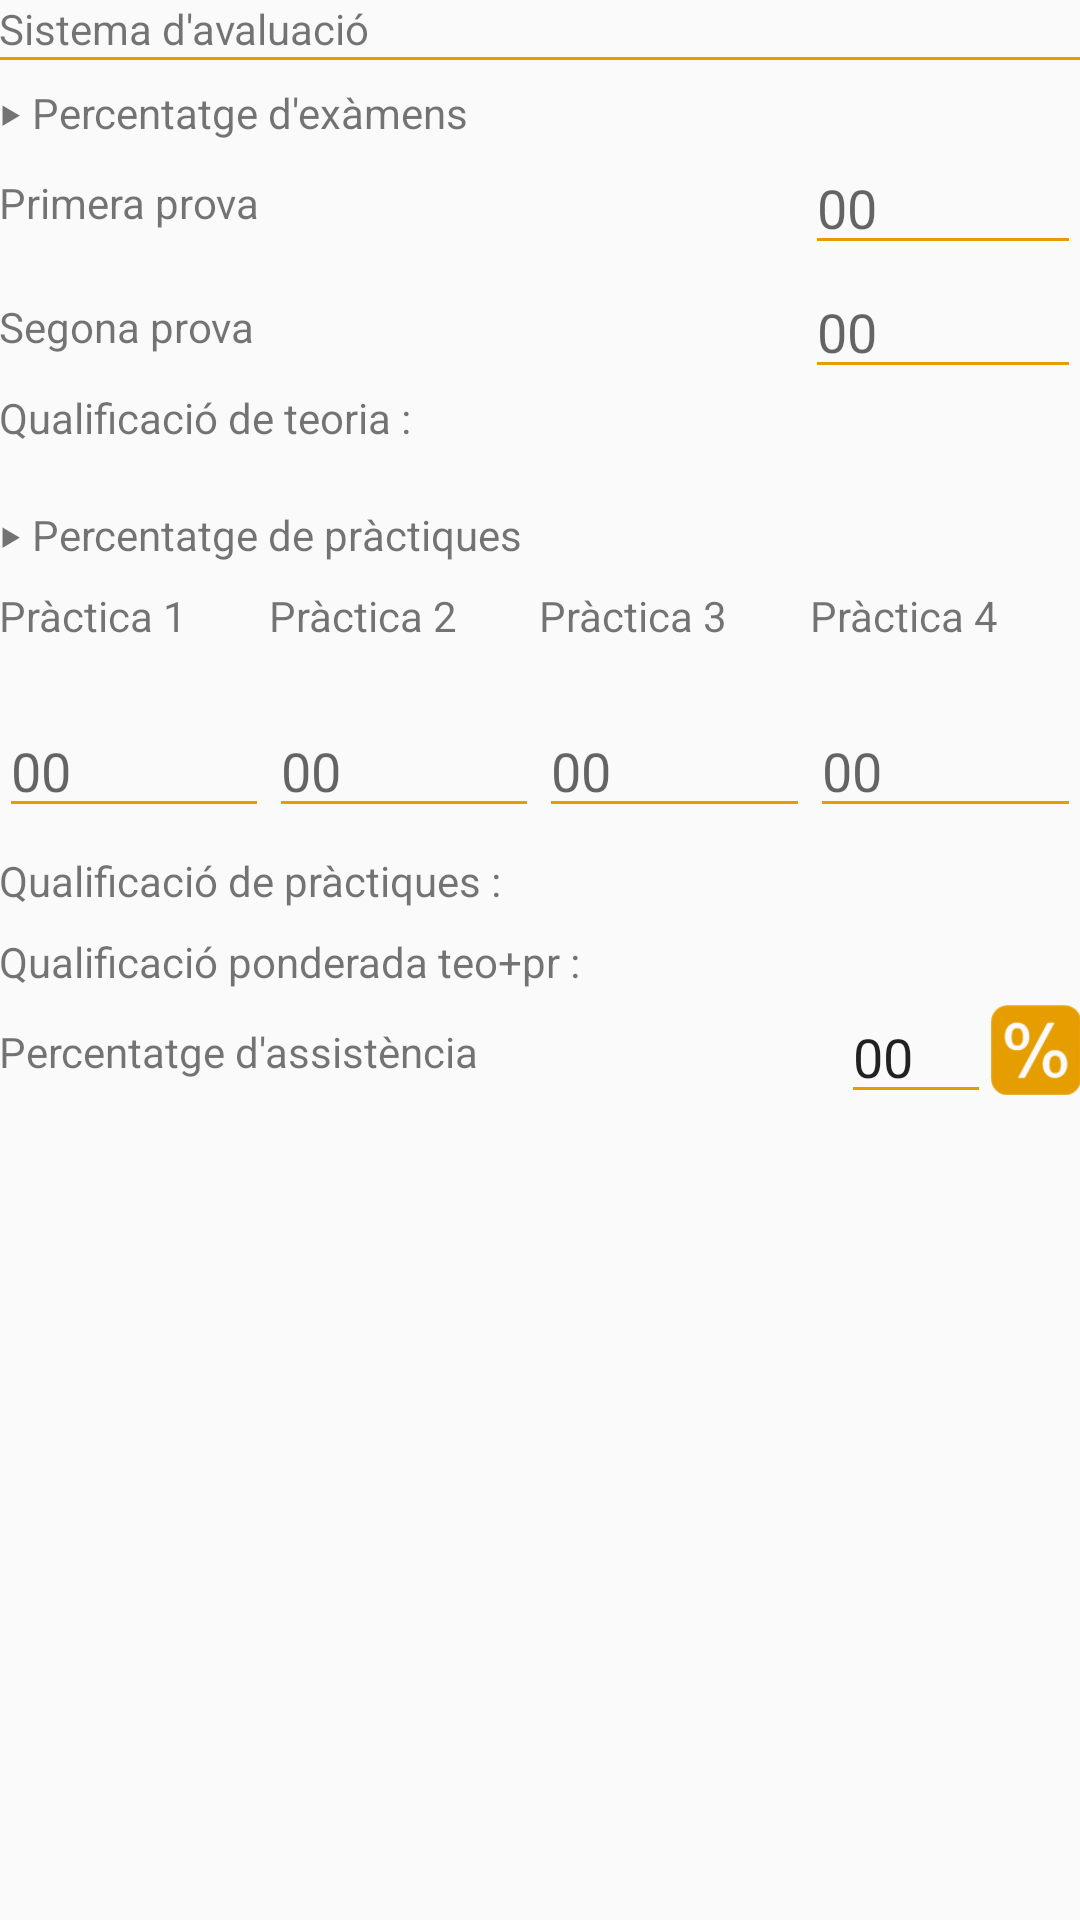

Icons on this 1080x1920 Android screen, each with the point to tap as (x=x, y=y):
percentage: (x=1035, y=1050)
